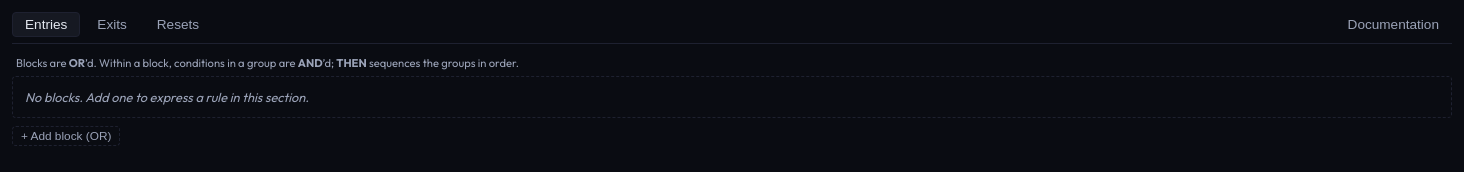
post-fix interface: no section prop — doc tab works › existing doc value is shown in read mode before editing
Click the tab with test id "section-tab-doc" at (1393,24), box [1335,12,1452,37]
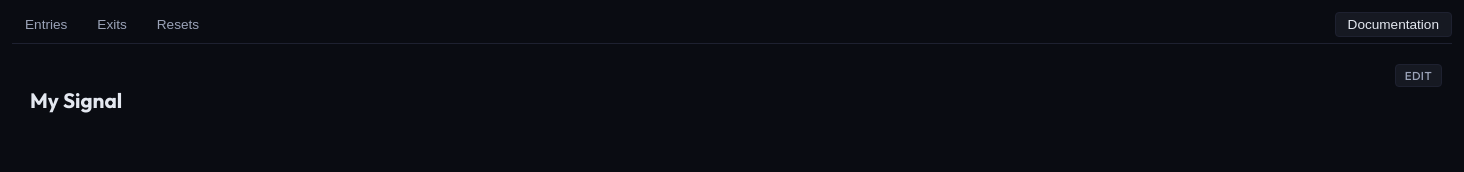
Check: the heading "My Signal" is shown, box [30,87,122,113]
